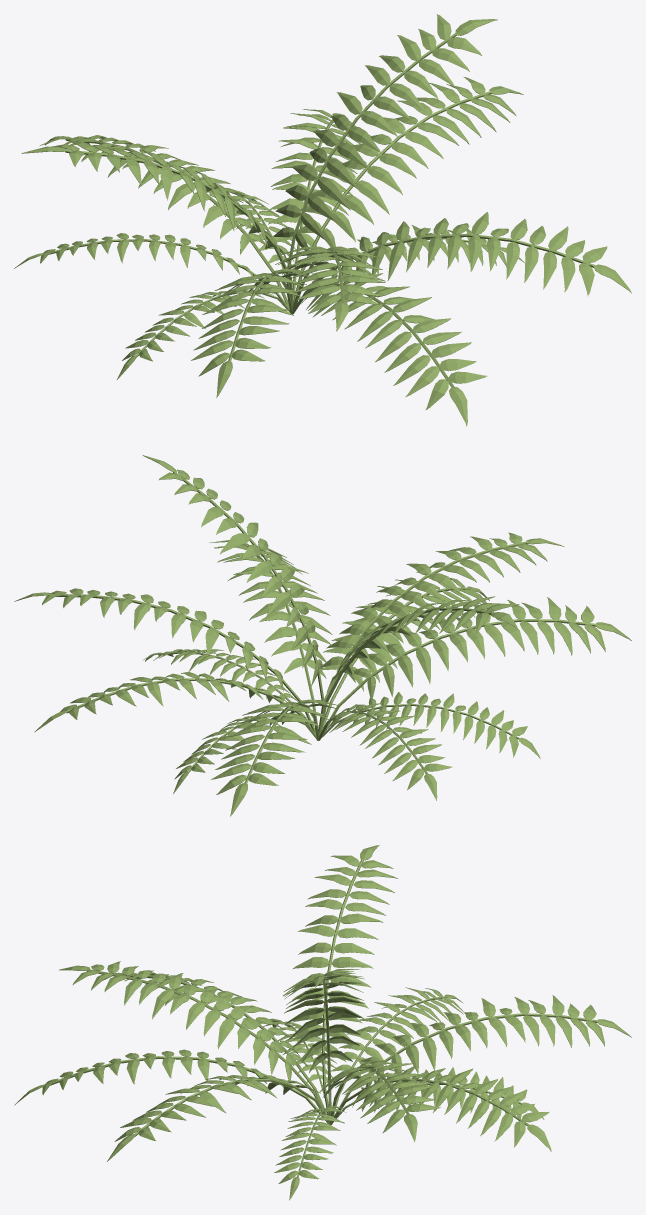
Rendered from ManleyPaige_FernBig.fbx.
3 renders of one model, top to bottom at view 1: azimuth 30°, elevation 25°; view 2: azimuth 150°, elevation 25°; view 3: azimuth 270°, elevation 25°, orthographic. The views are drawn at different scales.
Visible parts, largest first — view 1: BigFern_LOD0; view 2: BigFern_LOD0; view 3: BigFern_LOD0.
Part boxes in pixels (x1,y1,x2,y2): BigFern_LOD0: (14,14,631,426); BigFern_LOD0: (14,455,631,816); BigFern_LOD0: (14,845,631,1200).
Bounding box in the file's own units: 150 × 69.77 × 175.
